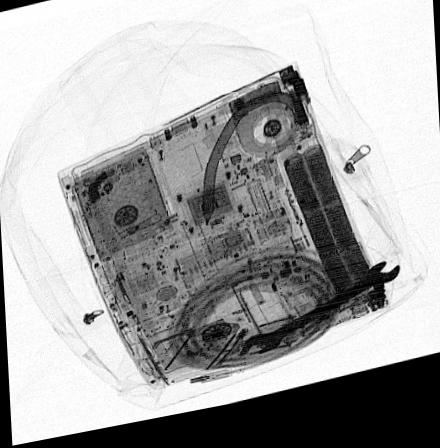Wrench: (237, 272, 400, 367)
